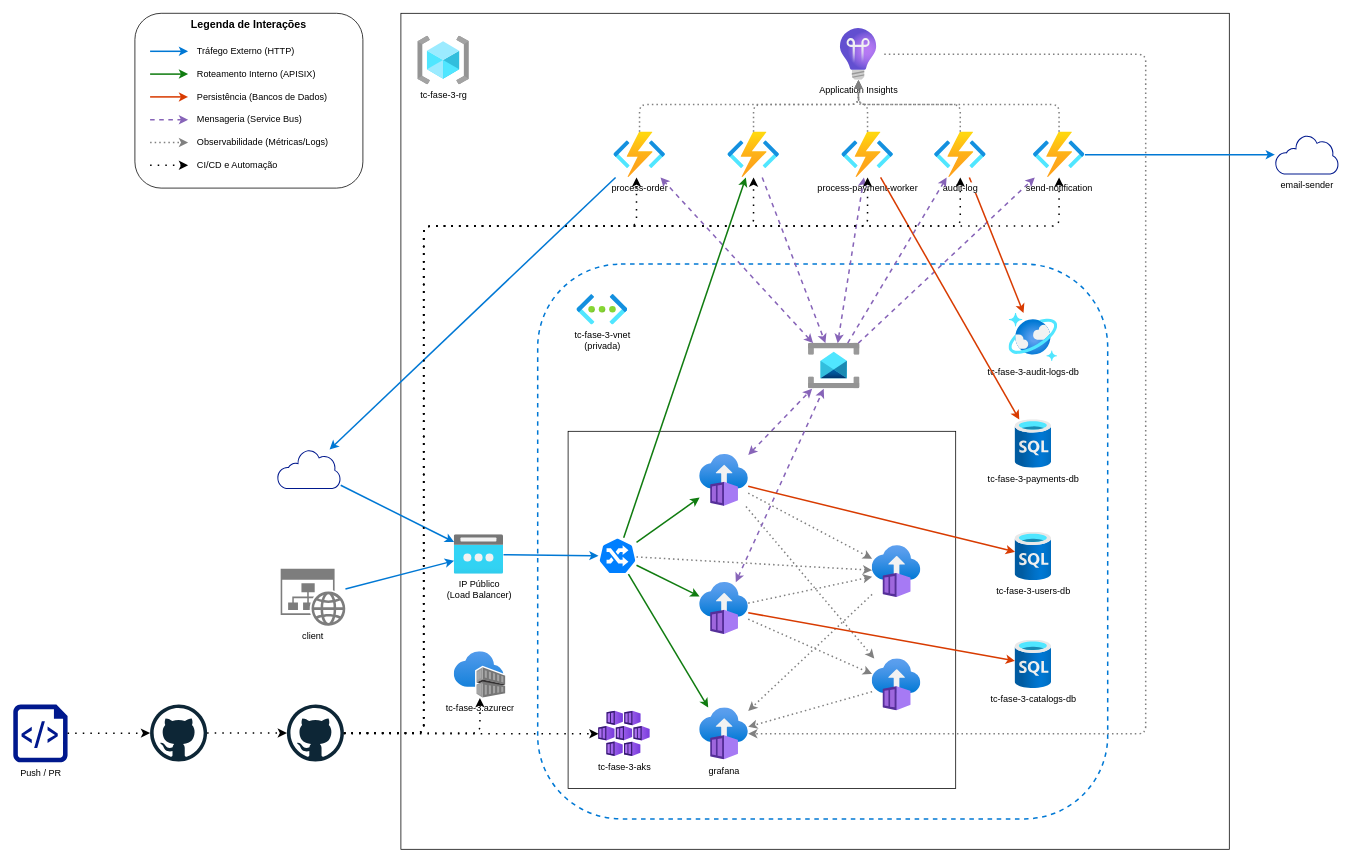
This 1351x863 diagram has some shape labels left out. The centre of each missing label's shape, as x and y in pixels:
apache-apisix (Gateway & Ingress): the point at 617,555
catalogs-api: the point at 723,608
CD Pipeline (Deploy/Release): the point at 315,733
CI Pipeline (Testes & Specs): the point at 178,733
loki: the point at 896,684
payment-gateway: the point at 308,469
process-payment-webhook: the point at 753,154
prometheus: the point at 896,571
tc-fase-3-service-bus: the point at 834,365
users-api: the point at 723,480
